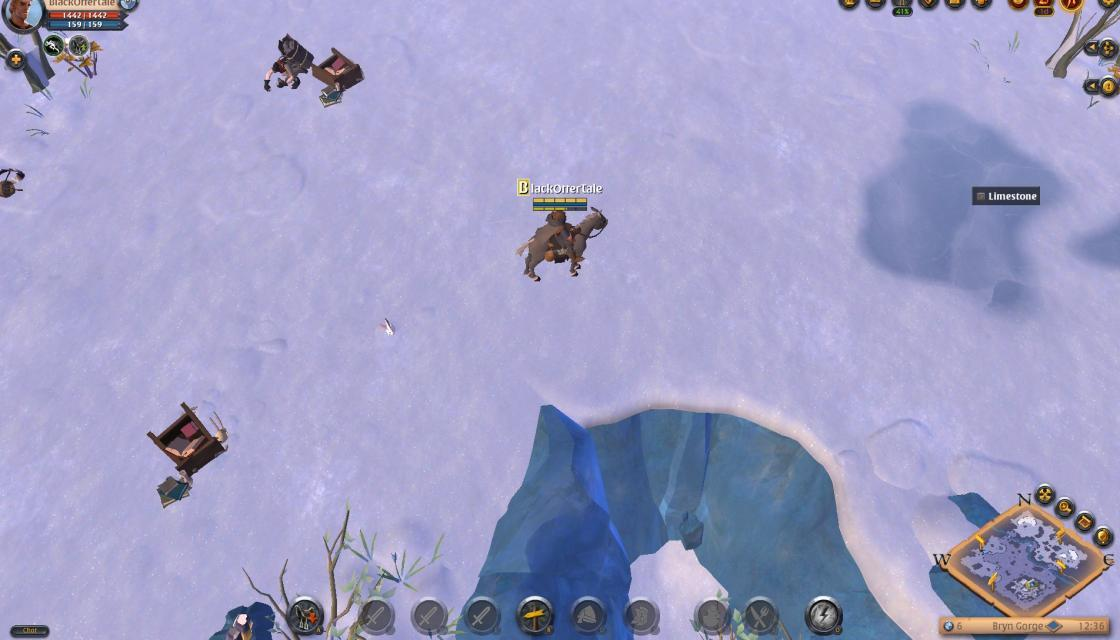copperore: (212, 603, 270, 638)
